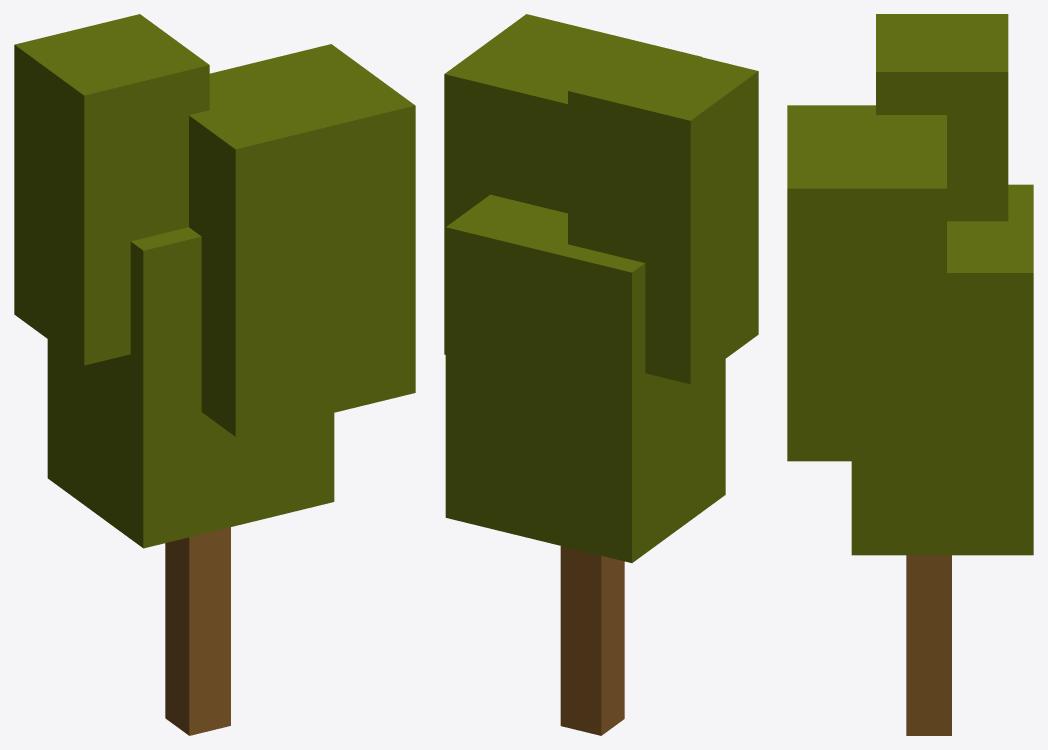
Rendered from CityTreeBig.fbx.
3 renders of one model, left to right at view 1: azimuth 30°, elevation 25°; view 2: azimuth 150°, elevation 25°; view 3: azimuth 270°, elevation 25°, orthographic. The views are drawn at different scales.
Visible parts, largest first — view 1: CityTreeBig; view 2: CityTreeBig; view 3: CityTreeBig.
Boxes of the visible parts, left/top/right/bottom form: CityTreeBig: left=14, top=14, right=415, bottom=735; CityTreeBig: left=444, top=14, right=758, bottom=735; CityTreeBig: left=787, top=14, right=1033, bottom=735.
Size of the model in its own units: 0.357 by 0.817 by 0.282.
